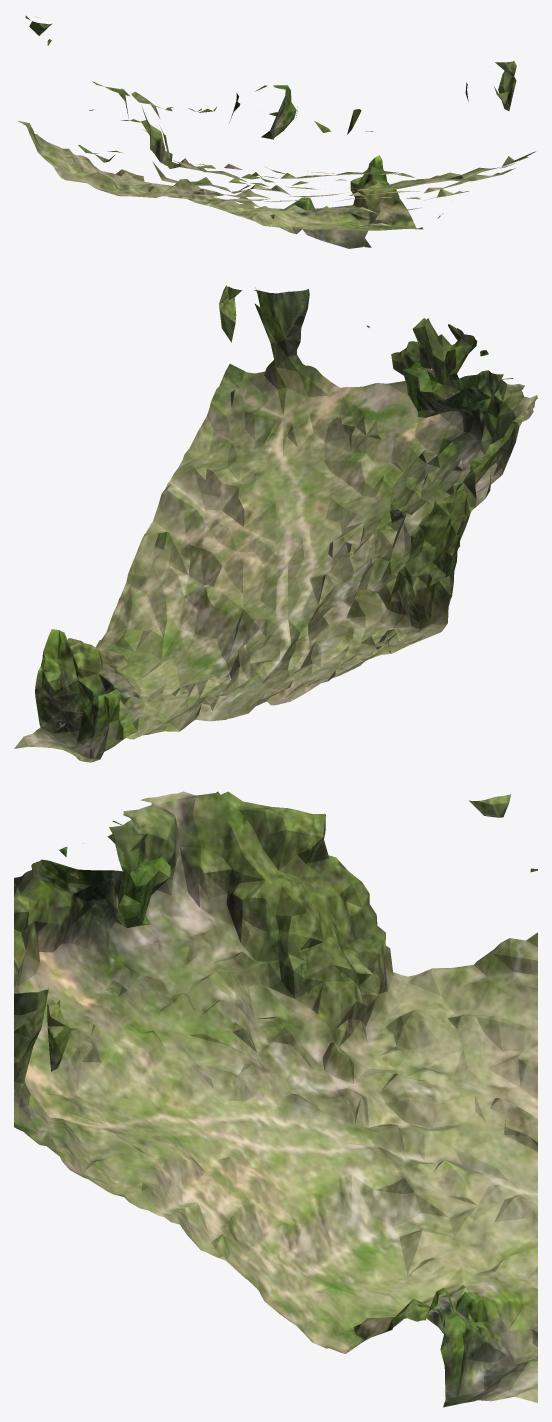
The picture shows the model from 3 angles, top to bottom: view 1: azimuth 30°, elevation 25°; view 2: azimuth 150°, elevation 25°; view 3: azimuth 270°, elevation 25°; orthographic projection. The views are drawn at different scales.
Bounding box in the file's own units: 26.11 × 22.09 × 26.11.
4 materials, 4 textured.
